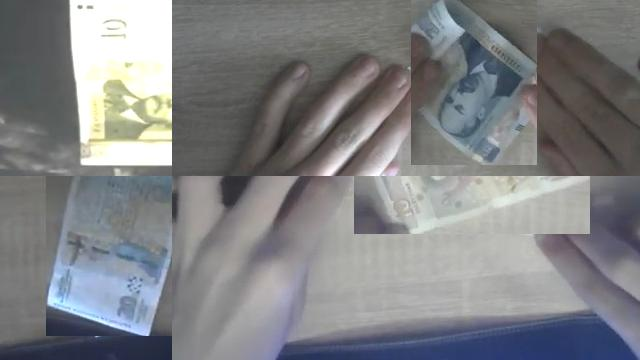10leva: (370, 176, 590, 234), (90, 11, 137, 46)
20leva: (411, 0, 537, 165), (46, 176, 172, 336)
